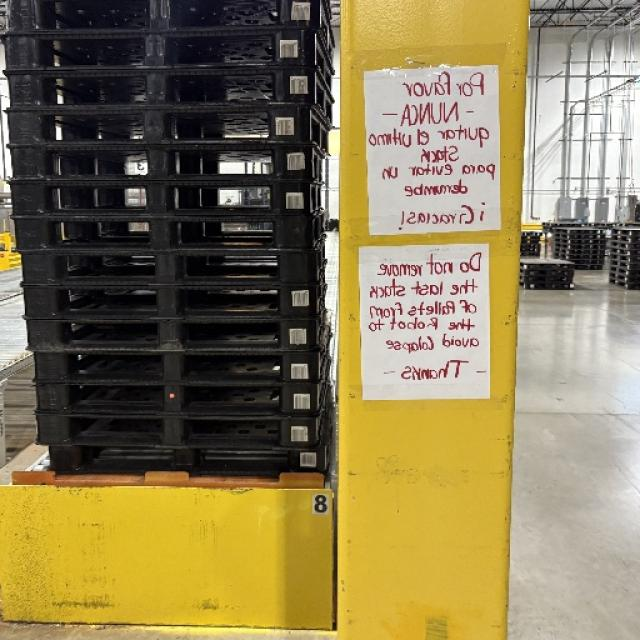igps: (4, 177, 324, 222), (0, 71, 321, 113), (6, 249, 323, 291), (41, 442, 336, 486), (4, 216, 319, 256), (0, 31, 322, 68), (0, 143, 320, 180), (13, 286, 326, 323), (0, 0, 328, 35), (20, 350, 327, 386), (18, 318, 324, 354), (25, 380, 324, 416), (0, 112, 316, 146), (28, 412, 323, 448), (518, 254, 577, 270), (525, 268, 576, 278), (606, 279, 640, 293), (550, 226, 606, 234), (523, 283, 577, 291), (605, 252, 640, 264), (550, 233, 610, 240), (605, 272, 640, 283), (606, 246, 640, 257), (523, 276, 575, 283), (607, 232, 640, 243), (551, 238, 609, 244), (550, 244, 608, 250), (606, 259, 640, 269), (610, 225, 640, 236), (607, 240, 640, 250), (551, 250, 606, 256), (608, 266, 640, 276), (553, 254, 606, 260), (572, 265, 605, 272), (567, 260, 606, 265), (520, 230, 543, 237), (519, 248, 542, 253), (520, 239, 542, 244), (520, 236, 542, 240), (520, 244, 542, 248), (520, 252, 540, 256)
